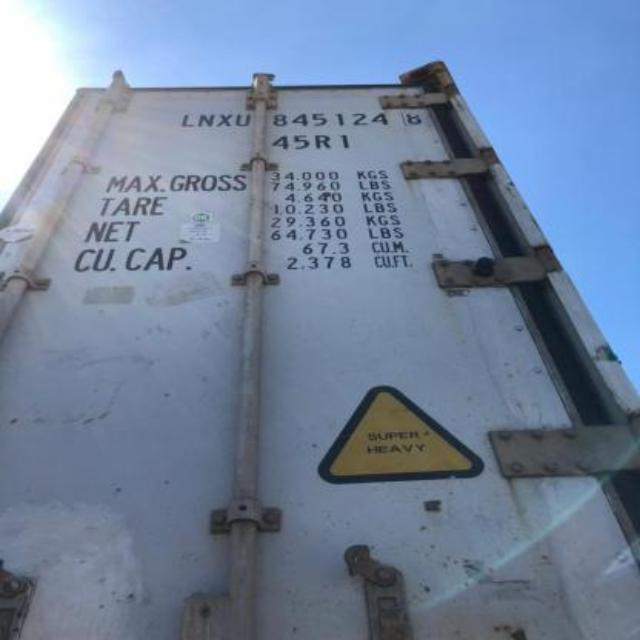1: (332, 109, 348, 129)
2: (350, 105, 368, 131)
4: (371, 104, 389, 132), (289, 107, 309, 131)
5: (308, 107, 328, 133)
8: (270, 108, 286, 132), (401, 110, 424, 126)
L: (179, 108, 195, 128)
N: (197, 105, 213, 132)
U: (232, 108, 254, 134)
X: (216, 108, 232, 134)
